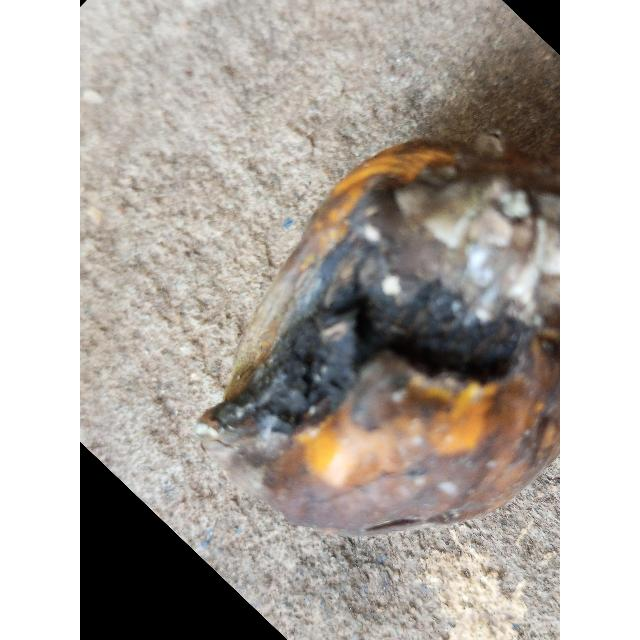damaged: (194, 131, 560, 537)
